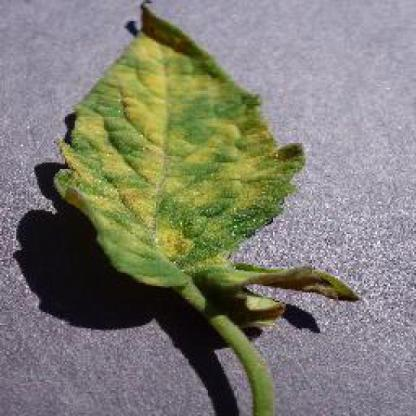Tomato_Leaf_Mold: (52, 7, 363, 302)
